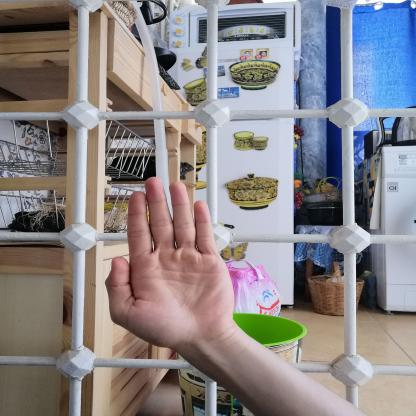SEEN: (92, 167, 246, 354)
